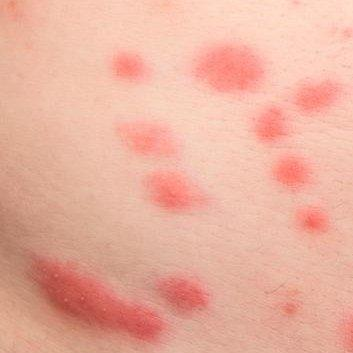Fleas: (17, 246, 170, 353), (138, 158, 209, 227), (193, 43, 264, 93), (244, 99, 298, 152), (152, 271, 212, 318), (115, 120, 184, 159), (290, 72, 346, 117), (109, 51, 149, 85), (277, 157, 309, 187), (302, 208, 327, 232), (275, 297, 304, 317), (339, 315, 352, 352)
